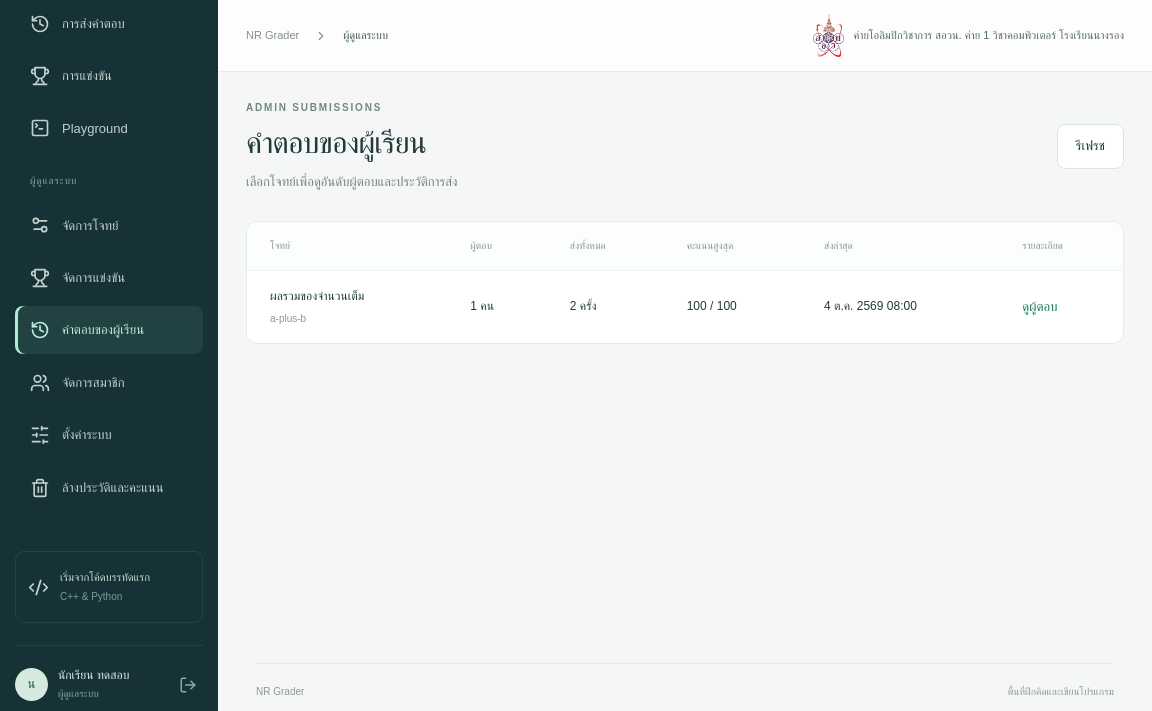
Test: NR Grader user workflows › opens the clear-all admin menu and confirms permanent deletion
The image size is (1152, 711).
(page scrolled)
Click the link "ล้างประวัติและคะแนน".
click(97, 488)  # box [30,478,164,498]
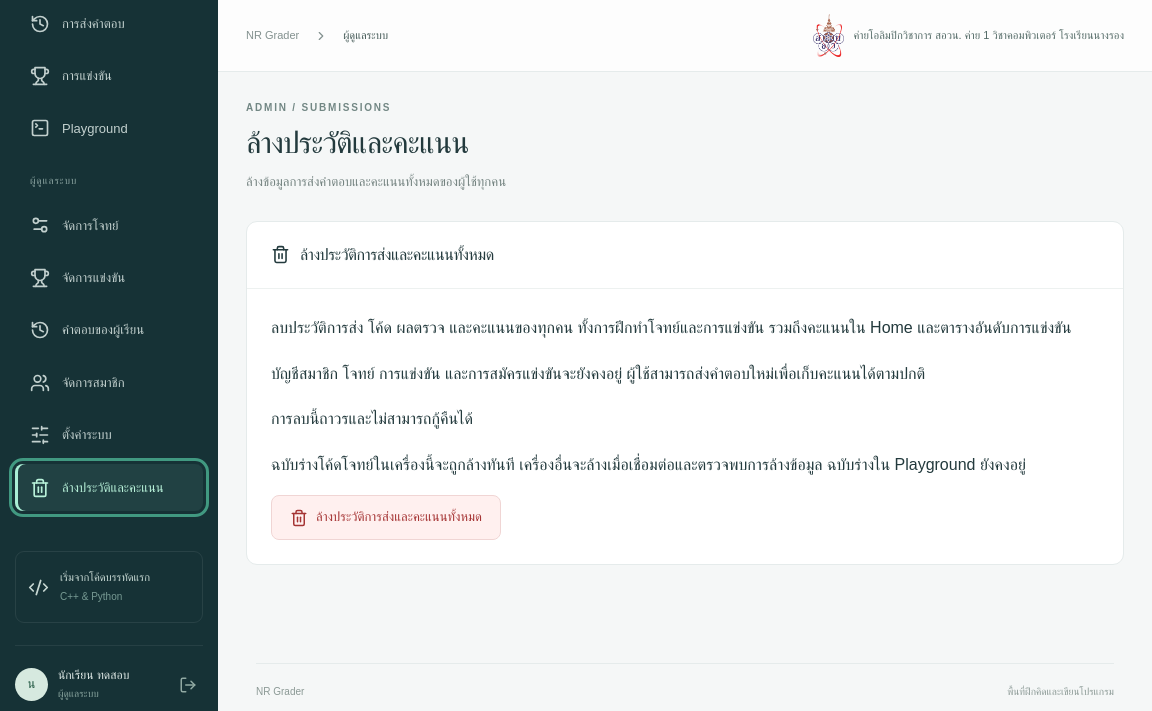
Click the button "ล้างประวัติการส่งและคะแนนทั้งหมด".
click(386, 518)  # box [271,495,501,540]
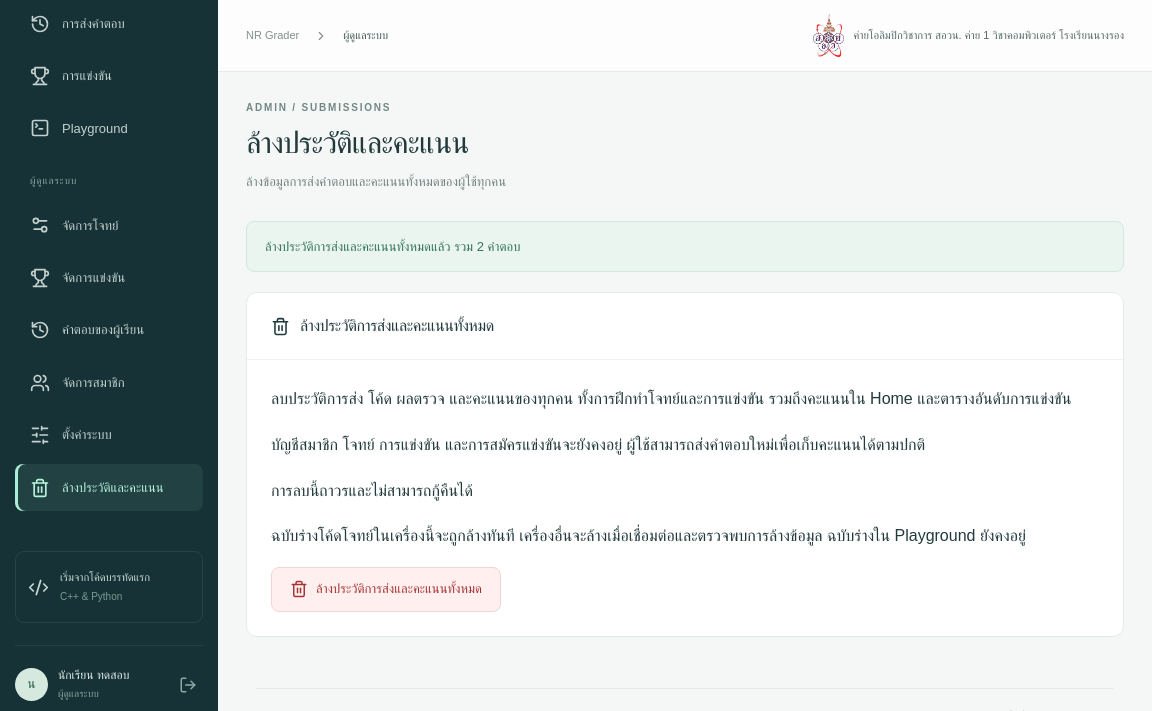
Now the message shows "รวม 2 คำตอบ", box [265,238,520,254]
